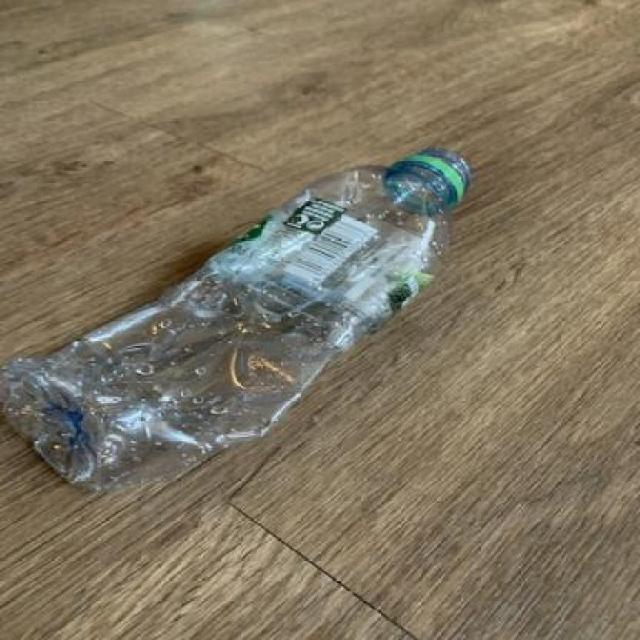trash: (3, 144, 477, 498)
